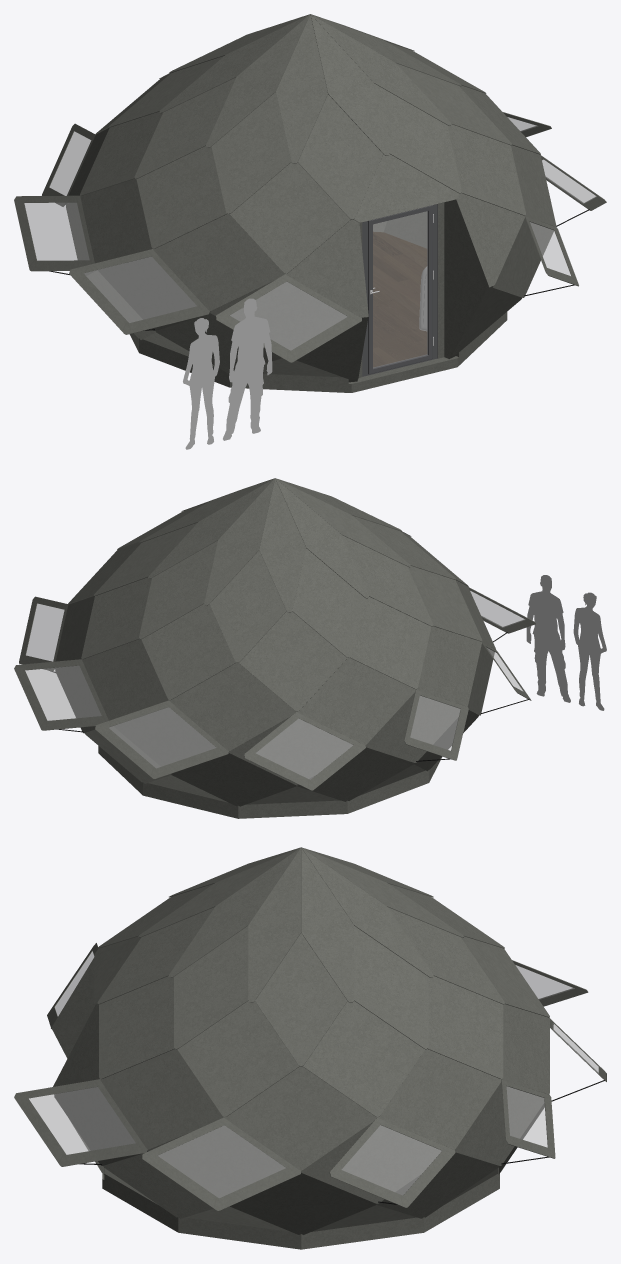
Rendered from zomes-office2.glb.
3 renders of one model, top to bottom at view 1: azimuth 30°, elevation 25°; view 2: azimuth 150°, elevation 25°; view 3: azimuth 270°, elevation 25°, orthographic. The views are drawn at different scales.
Visible parts, largest first — view 1: entry-center, door, panel-wall-e-1, window-glass-c-2.001, panel-wall-d-1, man, window-glass-c-1.001, panel-wall-e-2, panel-wall-f-2, panel-wall-f-1, window-glass-c-3.001, panel-wall-d-2 (+35 smaller); view 2: entry-center, panel-wall-d-4, window-glass-c-5.001, panel-wall-e-4, panel-wall-d-3, man, panel-wall-e-5, window-glass-c-4.001, window-glass-c-6.001, panel-wall-e-3, panel-wall-f-5, panel-wall-d-5 (+39 smaller); view 3: entry-center, window-glass-c-8.001, panel-wall-d-7, panel-wall-e-7, panel-wall-e-8, window-glass-c-9.001, panel-wall-d-6, window-glass-c-7.001, panel-wall-f-8, panel-wall-d-8, panel-wall-e-6, panel-wall-f-9 (+42 smaller).
Boxes of the visible parts, x1=… form: entry-center: x1=86, y1=154, x2=524, y2=383; door: x1=362, y1=204, x2=437, y2=376; panel-wall-e-1: x1=230, y1=162, x2=350, y2=273; window-glass-c-2.001: x1=69, y1=249, x2=209, y2=334; panel-wall-d-1: x1=154, y1=214, x2=284, y2=310; man: x1=183, y1=298, x2=272, y2=449; window-glass-c-1.001: x1=216, y1=274, x2=361, y2=362; panel-wall-e-2: x1=136, y1=146, x2=226, y2=248; panel-wall-f-2: x1=212, y1=92, x2=290, y2=213; panel-wall-f-1: x1=298, y1=95, x2=383, y2=219; window-glass-c-3.001: x1=14, y1=195, x2=94, y2=274; panel-wall-d-2: x1=80, y1=179, x2=152, y2=263; entry-center: x1=84, y1=710, x2=478, y2=810; panel-wall-d-4: x1=169, y1=662, x2=295, y2=750; window-glass-c-5.001: x1=95, y1=700, x2=228, y2=778; panel-wall-e-4: x1=239, y1=611, x2=346, y2=711; panel-wall-d-3: x1=297, y1=657, x2=415, y2=744; man: x1=526, y1=575, x2=606, y2=710; panel-wall-e-5: x1=141, y1=604, x2=236, y2=700; window-glass-c-4.001: x1=244, y1=712, x2=365, y2=790; window-glass-c-6.001: x1=14, y1=659, x2=108, y2=732; panel-wall-e-3: x1=350, y1=598, x2=428, y2=688; panel-wall-f-5: x1=209, y1=550, x2=286, y2=662; panel-wall-d-5: x1=85, y1=639, x2=168, y2=720; entry-center: x1=51, y1=936, x2=544, y2=1239; window-glass-c-8.001: x1=142, y1=1117, x2=301, y2=1210; panel-wall-d-7: x1=229, y1=1066, x2=377, y2=1170; panel-wall-e-7: x1=303, y1=1001, x2=424, y2=1116; panel-wall-e-8: x1=178, y1=1001, x2=299, y2=1116; window-glass-c-9.001: x1=14, y1=1079, x2=147, y2=1166; panel-wall-d-6: x1=378, y1=1049, x2=501, y2=1149; window-glass-c-7.001: x1=329, y1=1117, x2=455, y2=1207; panel-wall-f-8: x1=255, y1=933, x2=347, y2=1066; panel-wall-d-8: x1=113, y1=1049, x2=223, y2=1149; panel-wall-e-6: x1=428, y1=976, x2=503, y2=1078; panel-wall-f-9: x1=174, y1=926, x2=248, y2=1048.
Size of the model in its own units: 6.87 by 3.82 by 6.54.
17 materials, 6 textured.
